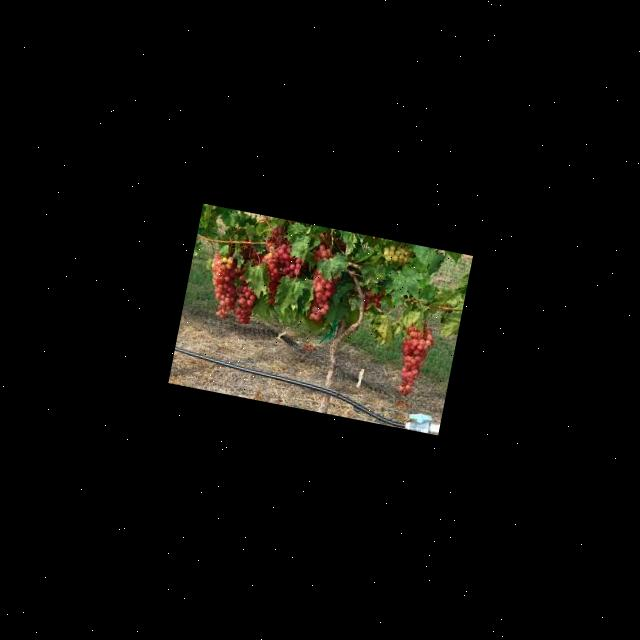grape: (300, 244, 346, 326), (393, 323, 437, 400)
